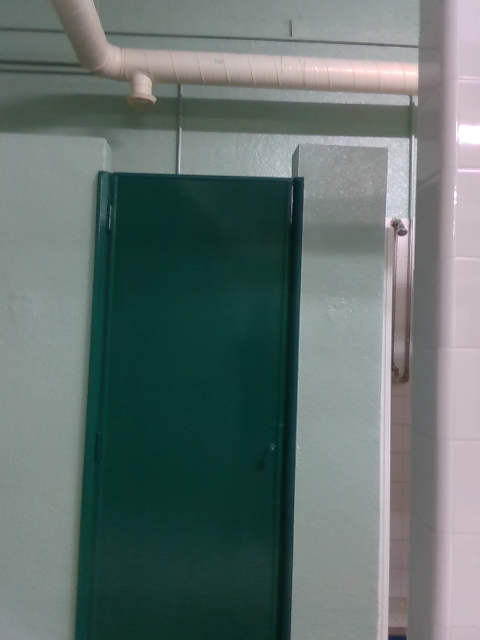closed: (74, 167, 302, 639)
